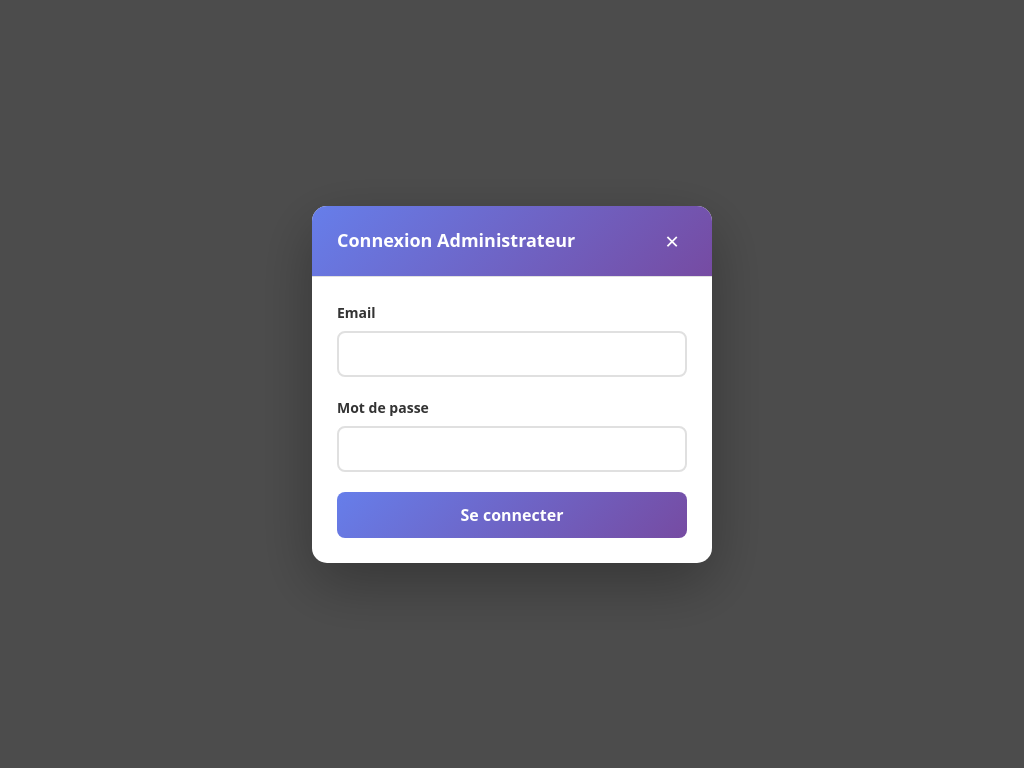
Test case: AdminLoginModal › affiche un message d'erreur si la connexion échoue
This screenshot has width=1024, height=768.
In the field labelled "Email": (512, 354) x1=337 y1=330 x2=687 y2=376, type "wrong@example.com"
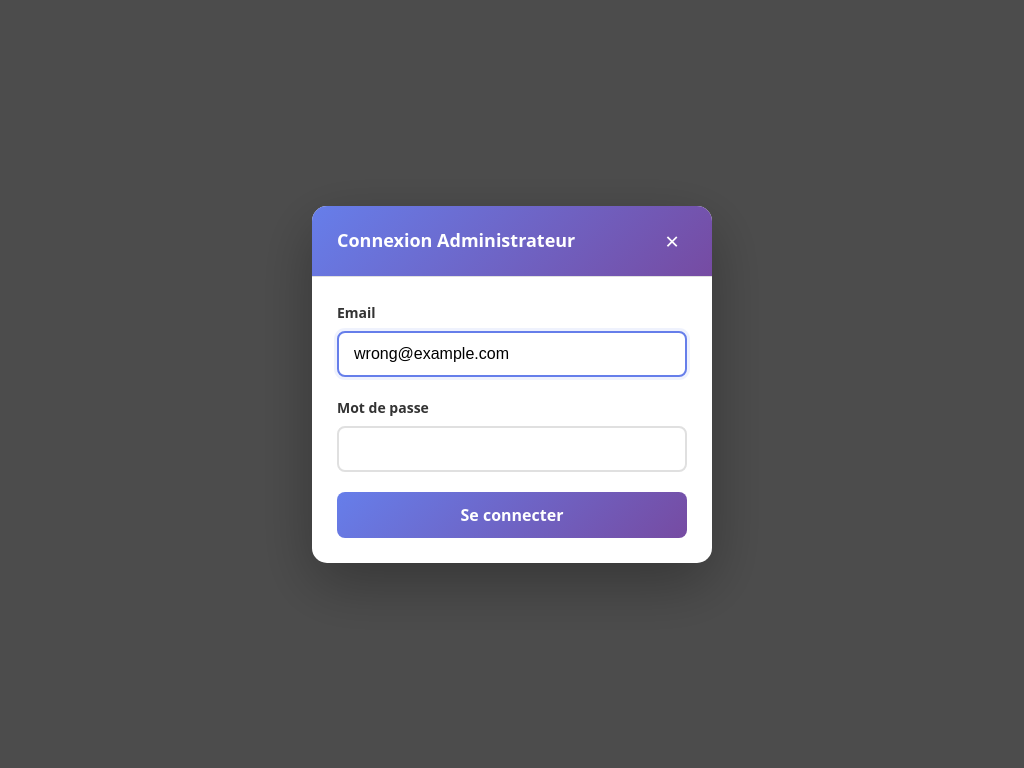
In the password field labelled "Mot de passe": (512, 448) x1=337 y1=426 x2=687 y2=472, type "wrongpassword"
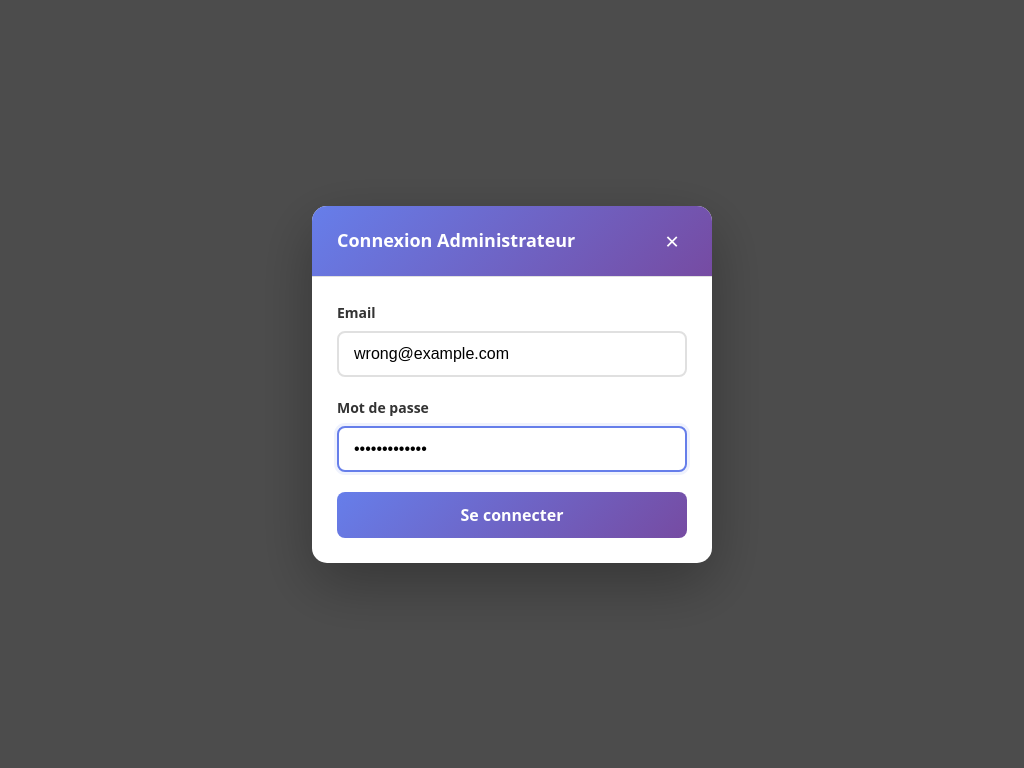
Click the button "Se connecter": (512, 514) x1=337 y1=492 x2=687 y2=538
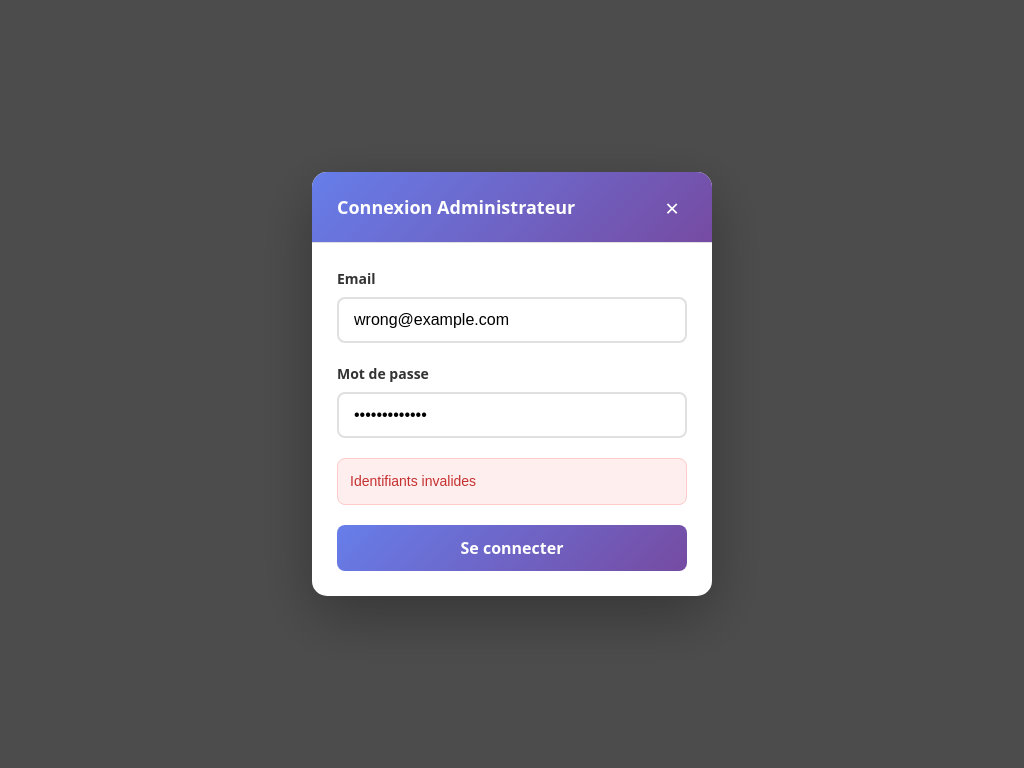
Expected: the text "Identifiants invalides" is shown, x1=337 y1=458 x2=687 y2=505
